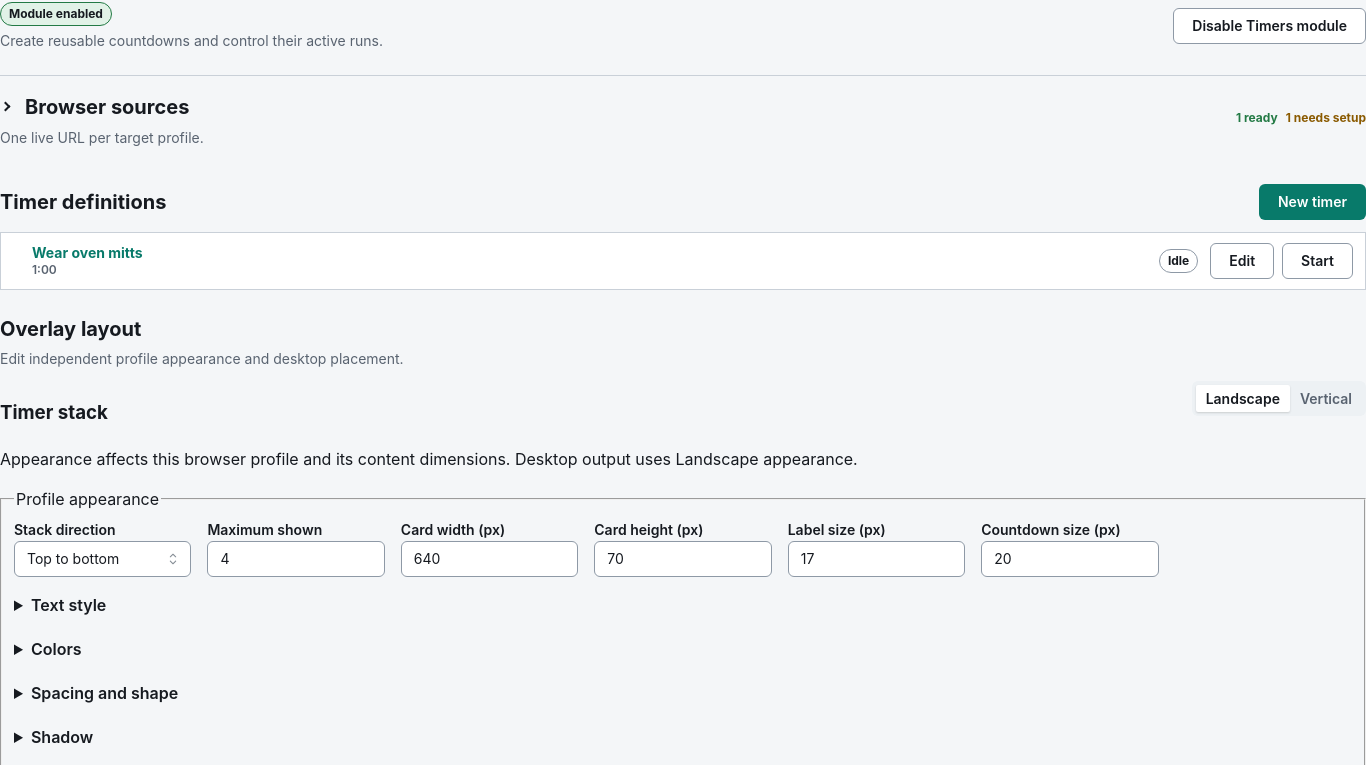
Test: locks a pending module confirmation and retains one scoped failure for explicit retry
Click the button "Disable Timers module": click(1270, 26) [1173,8,1365,44]
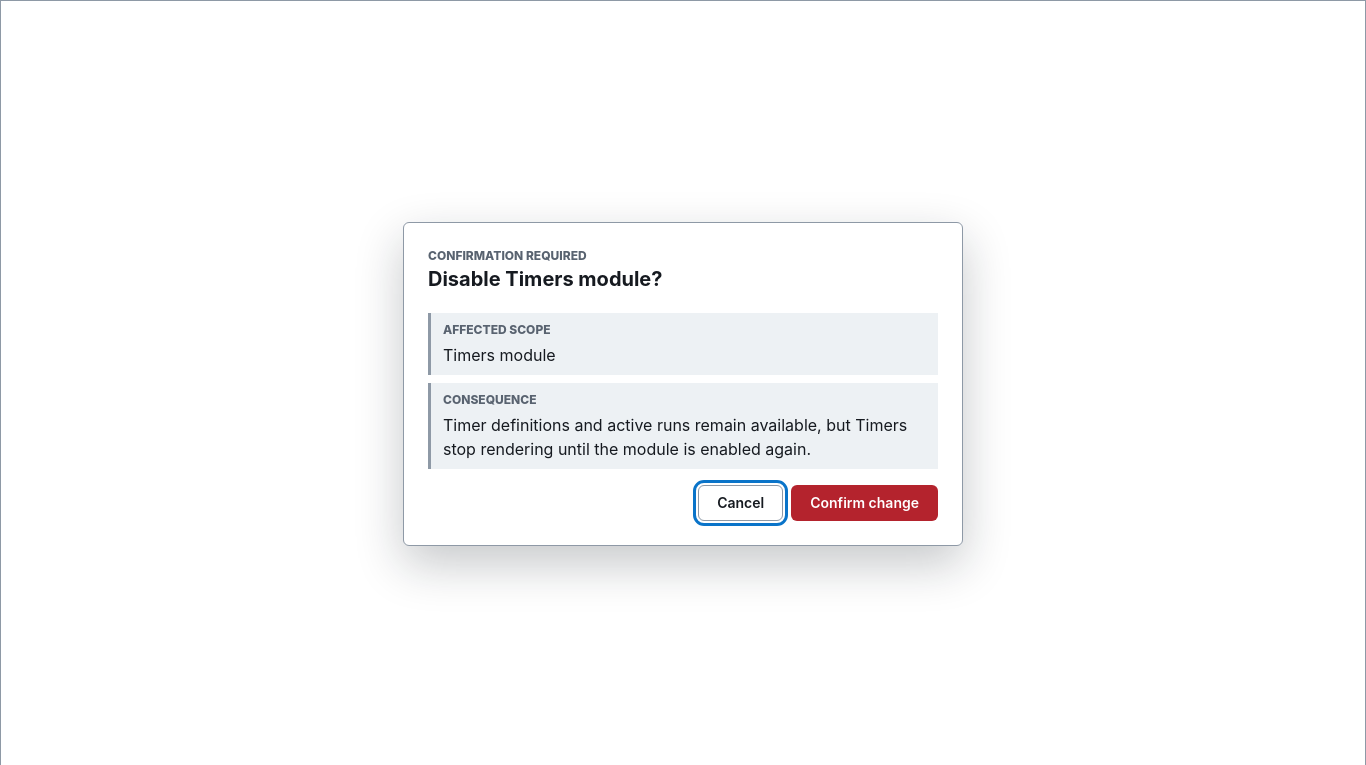
Double-click the button "Confirm change": (865, 503) [791,485,938,521]
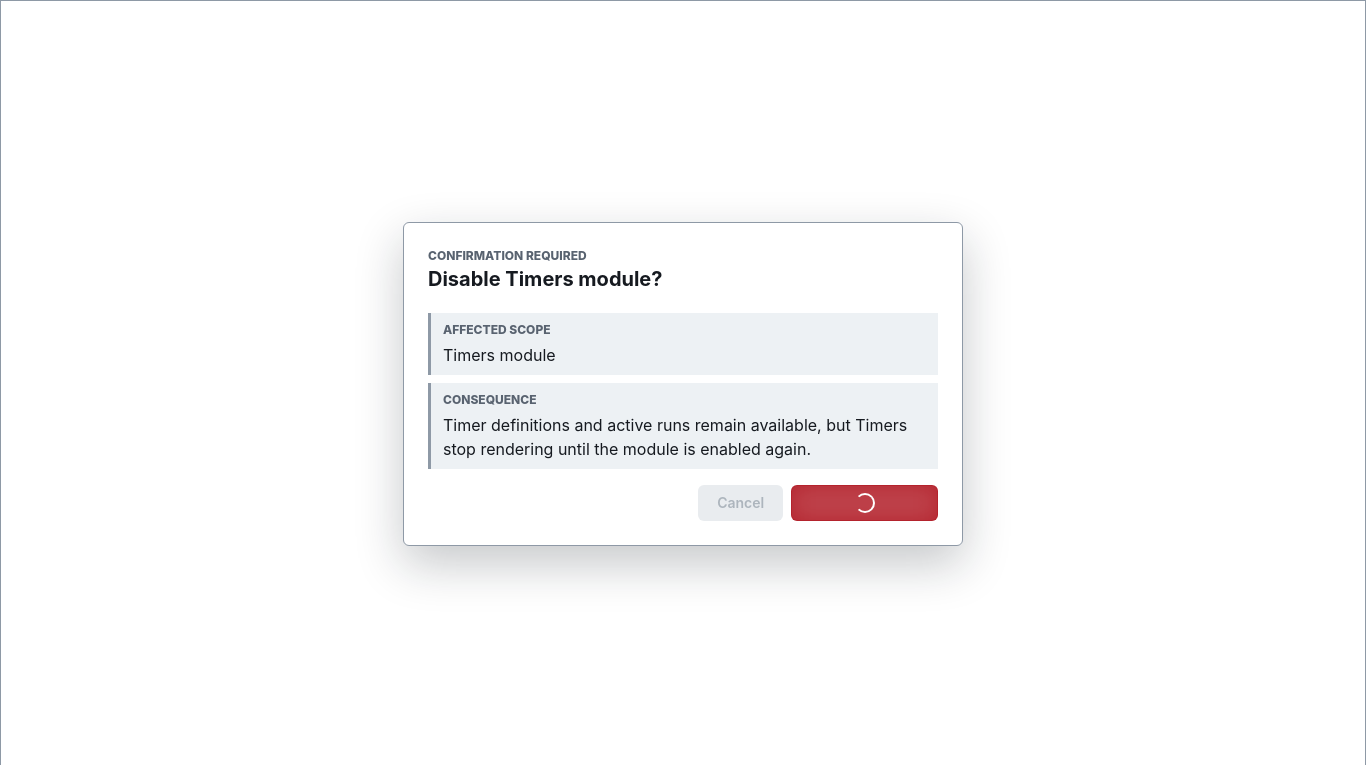
Check: the button "Cancel" is disabled, box [698,485,783,521]
Press Escape
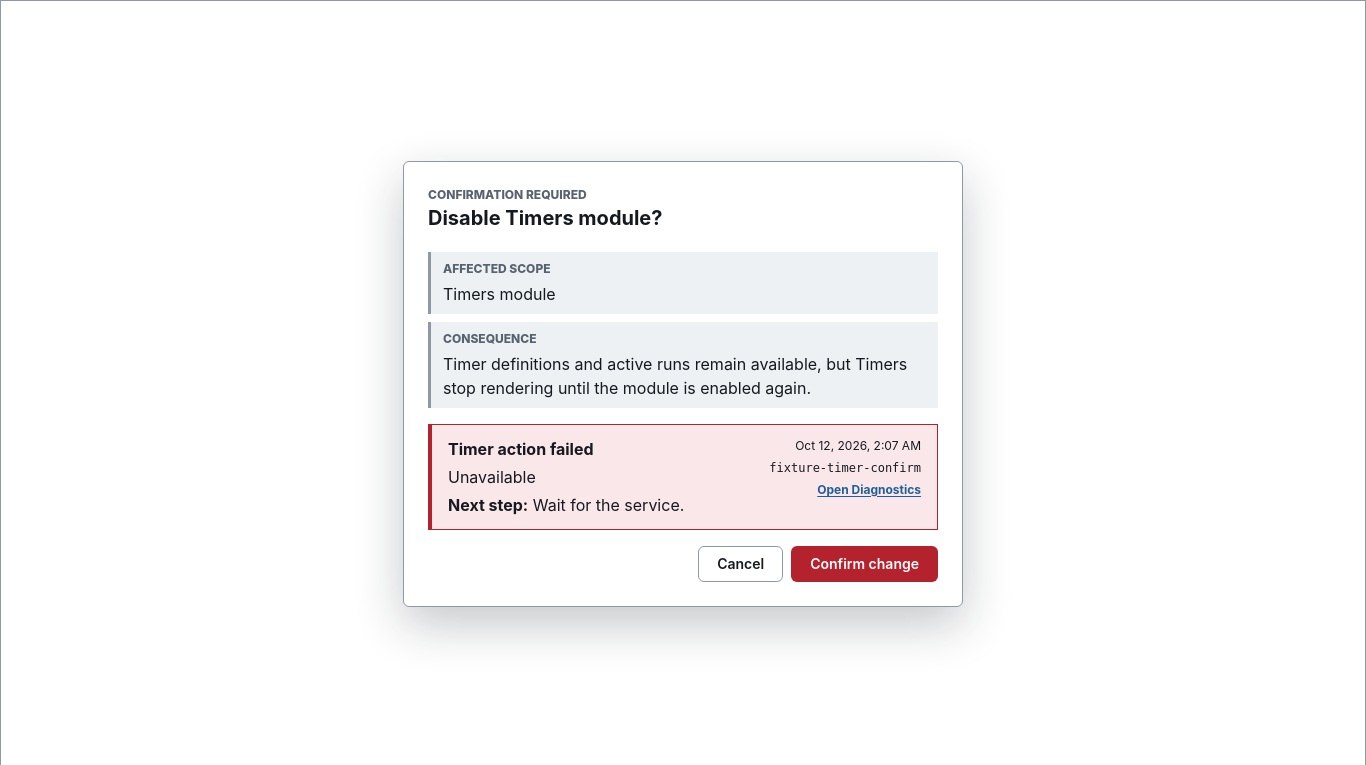
Check: the dialog is shown, box [403,161,963,607]
Check: the message shows "fixture-timer-confirm", box [769,461,921,475]
Check: the number of messages is 1, box [428,424,938,530]
Click the button "Confirm change": click(865, 564) [791,546,938,582]
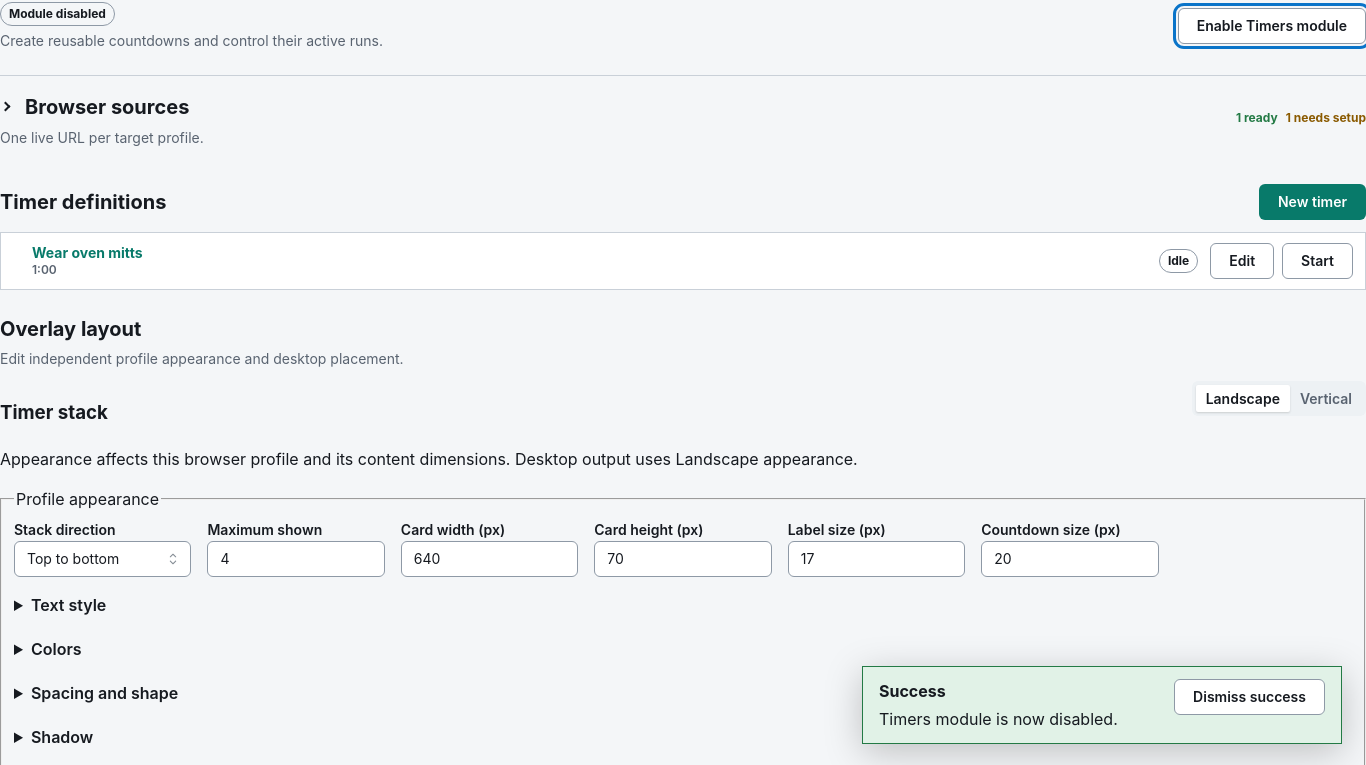
Check: the dialog is gone
Click the button "Enable Timers module": click(1272, 26) [1178,8,1365,44]
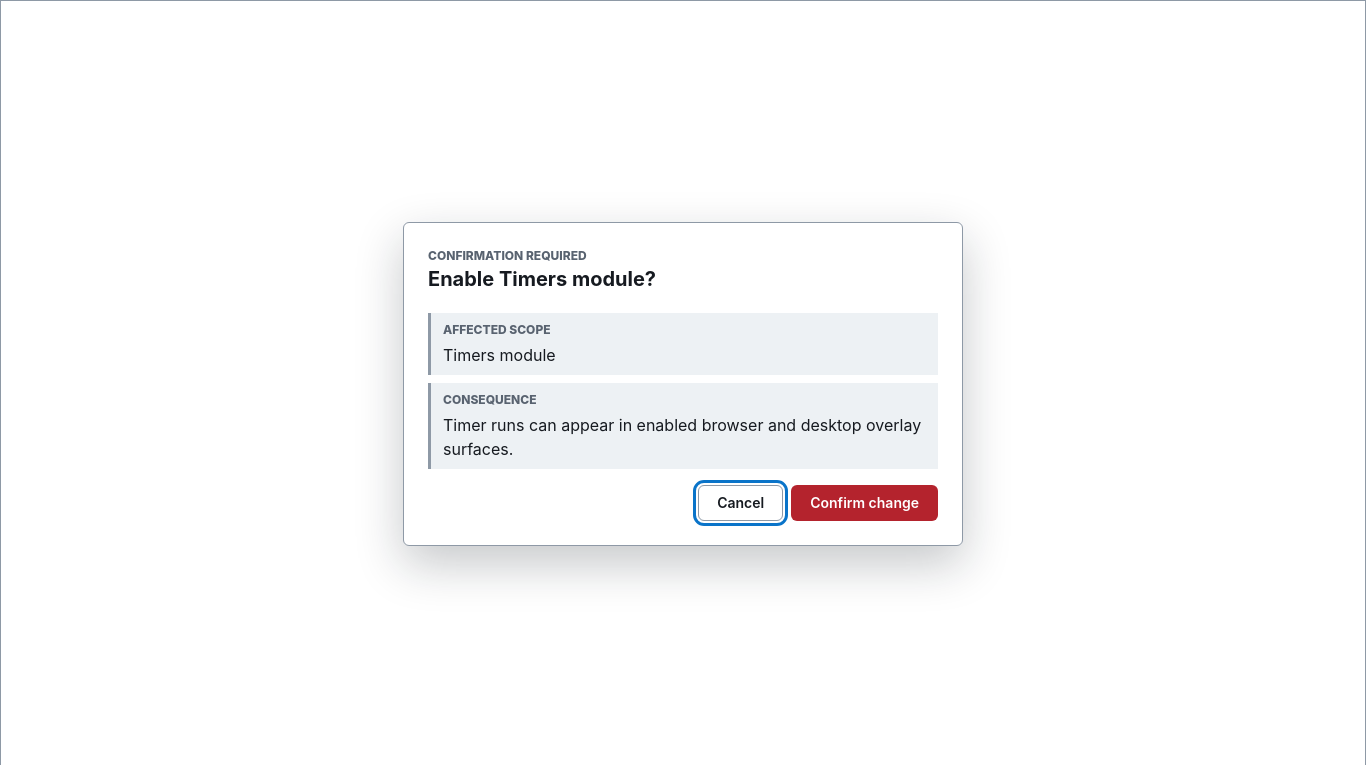
Check: the message "Success Timers module is now disabled. Dismiss success" is gone
